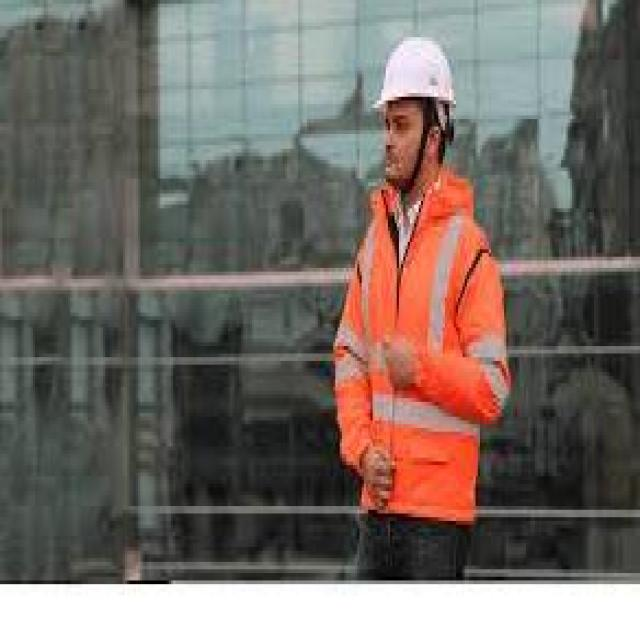Reflective-Jacket: (326, 168, 508, 540)
Safety-Helmet: (366, 26, 467, 134)
